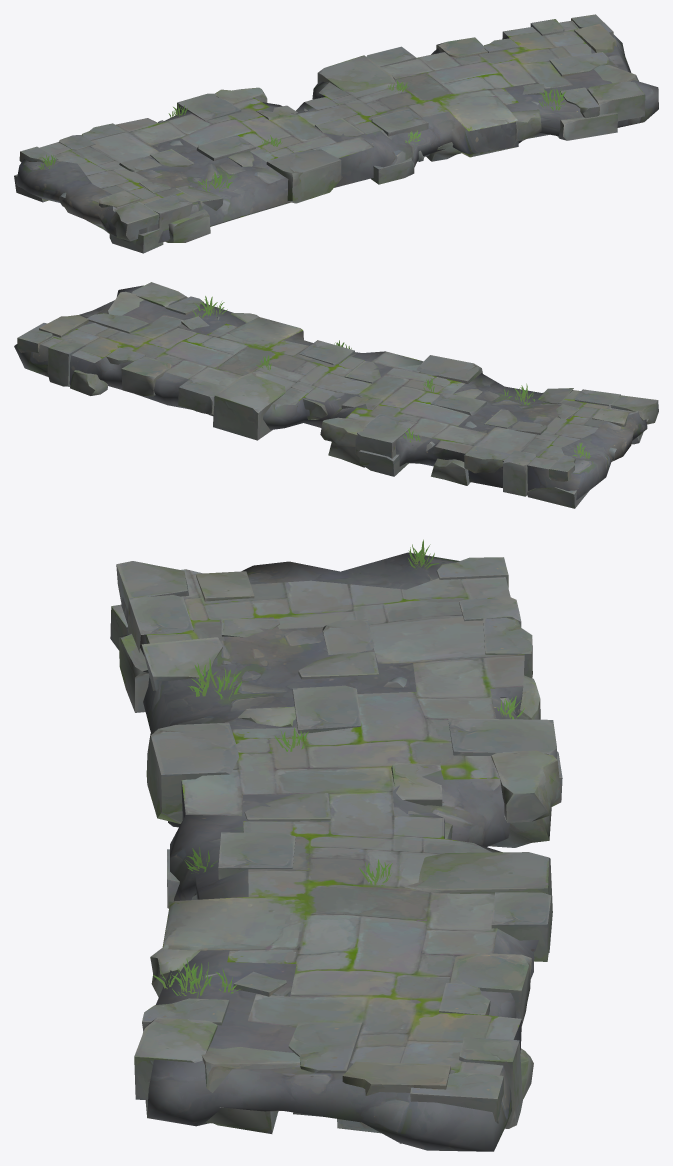
Rendered from Area_MdBuild_SdBridge03_01_Group.fbx.
3 views of the same model, one above another, from view 1: azimuth 30°, elevation 25°; view 2: azimuth 150°, elevation 25°; view 3: azimuth 270°, elevation 25° (orthographic). The views are drawn at different scales.
Visible parts, largest first — view 1: Area_MdBuild_SdBridge03_01_Lod0; view 2: Area_MdBuild_SdBridge03_01_Lod0; view 3: Area_MdBuild_SdBridge03_01_Lod0, Stages_SGrass23_Vo (4).
Part boxes in pixels (x1=…): Area_MdBuild_SdBridge03_01_Lod0: x1=14, y1=14, x2=658, y2=253; Area_MdBuild_SdBridge03_01_Lod0: x1=14, y1=282, x2=658, y2=508; Area_MdBuild_SdBridge03_01_Lod0: x1=110, y1=552, x2=562, y2=1151; Stages_SGrass23_Vo (4): x1=153, y1=958, x2=240, y2=997.
Bounding box in the file's own units: 23.89 × 1.99 × 8.15.
4 materials, 4 textured.
